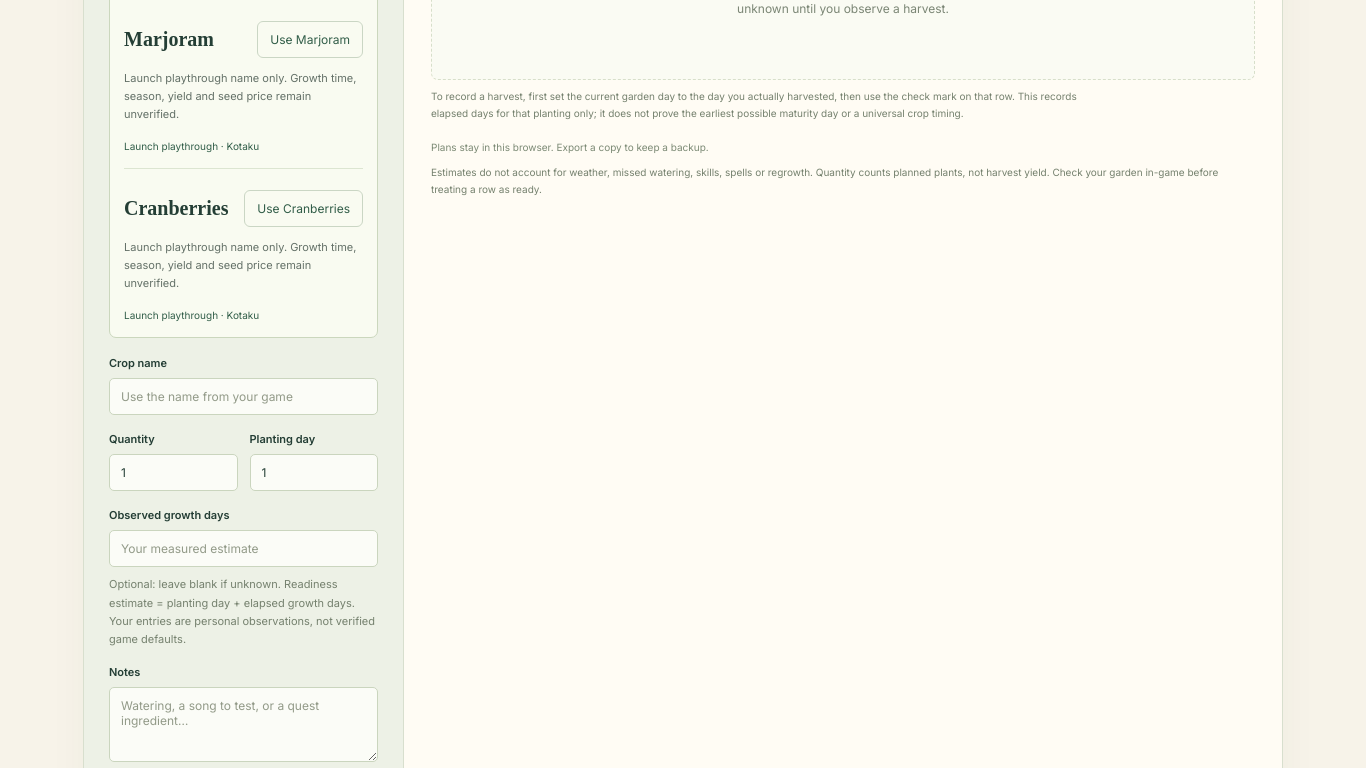
Test: Glimmerwick garden tool › updates the planning day and shows when an estimate is ready
(page scrolled)
Type "My herb" into the field labelled "Crop name" at (244, 397), box 109,378 -> 378,415
Replace the text in the number field labelled "Quantity" with "6" at (173, 473), box 109,454 -> 238,491
Replace the text in the number field labelled "Planting day" with "3" at (314, 473), box 250,454 -> 378,491
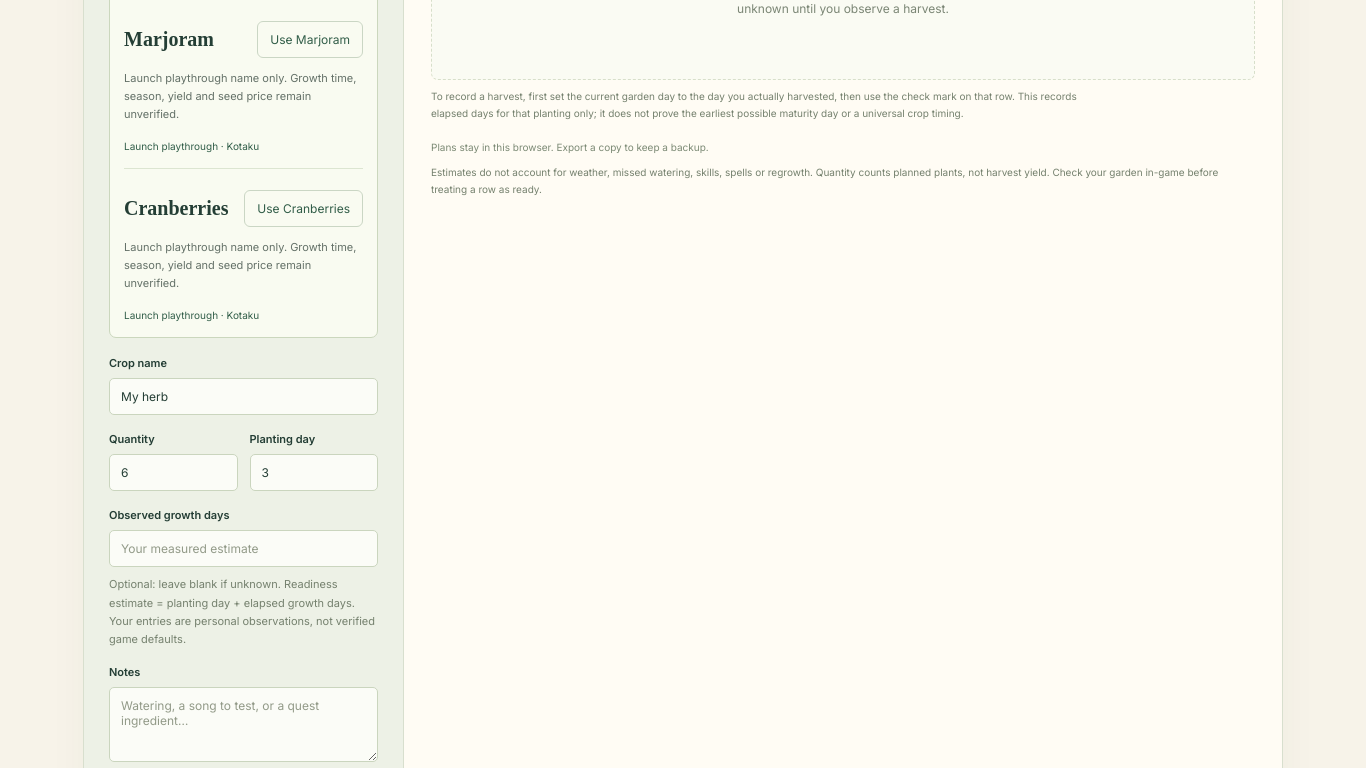
Type "4" into the number field labelled "Observed growth days" at (244, 549), box 109,530 -> 378,567
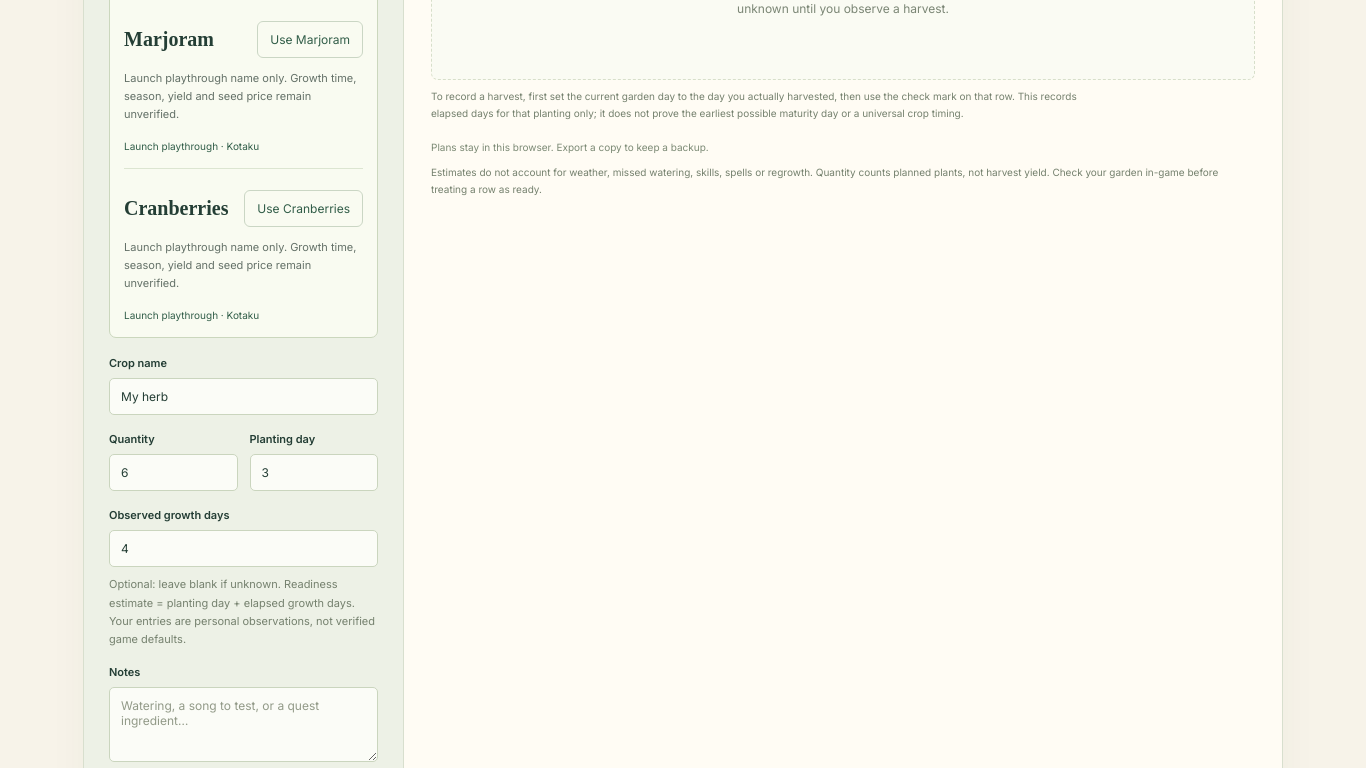
Type "Try a watering song" into the text box labelled "Notes" at (244, 724), box 109,687 -> 378,762
(page scrolled)
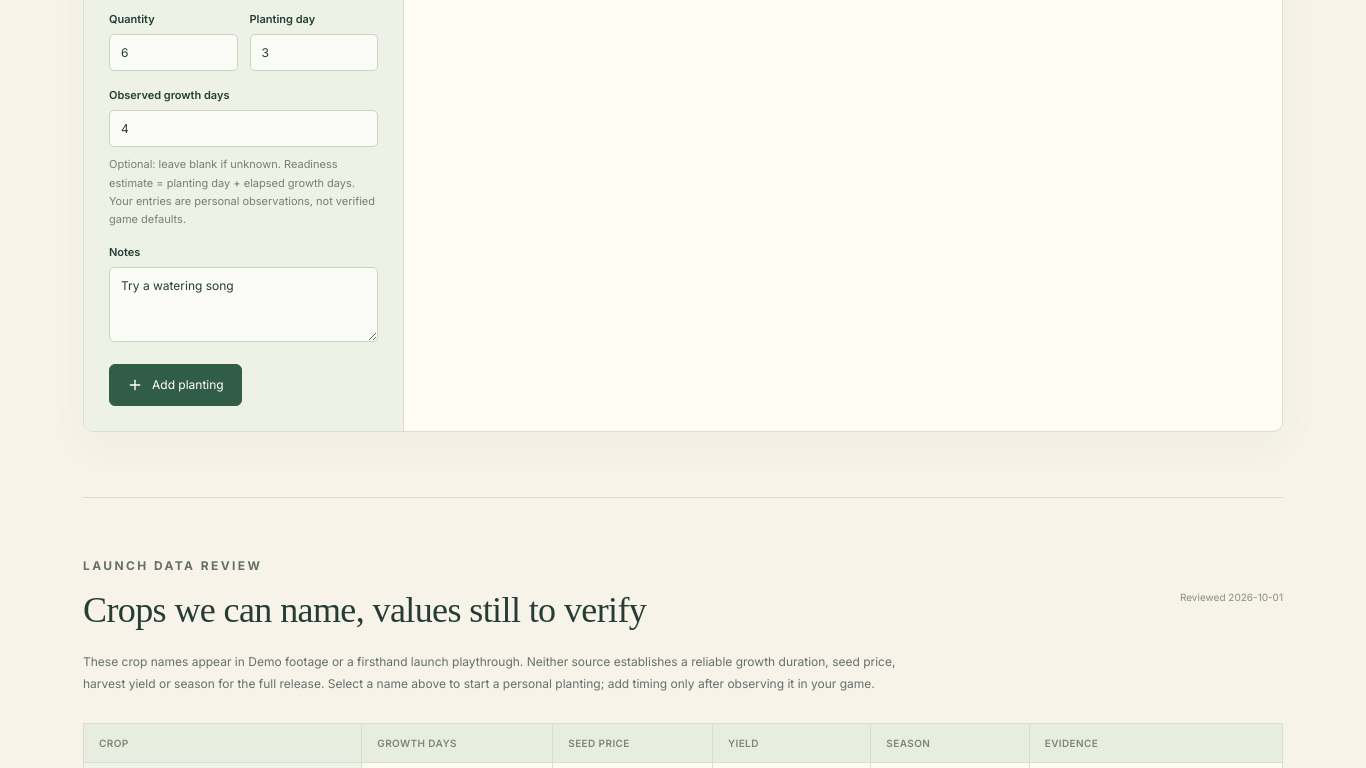
Click the button "Add planting" at (175, 385), box 109,364 -> 242,406
(page scrolled)
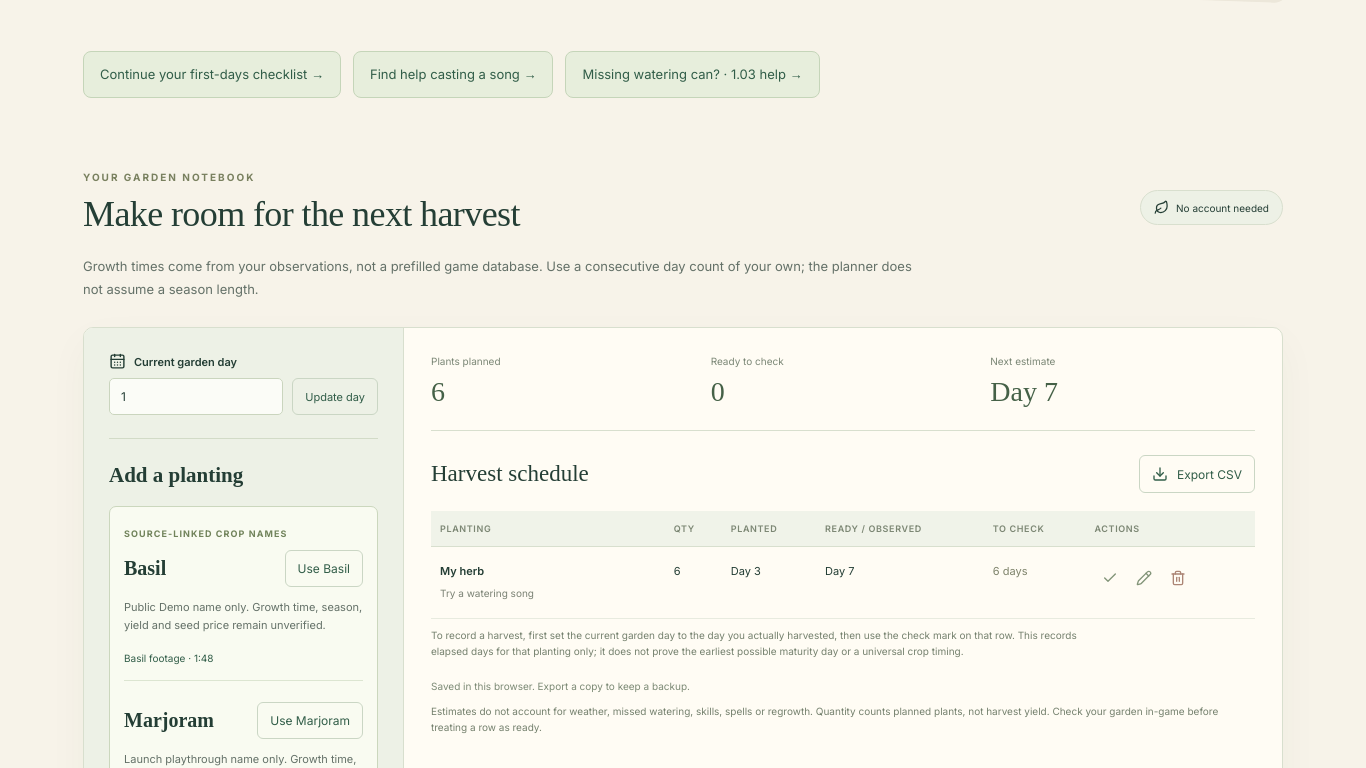
Replace the text in the number field labelled "Current garden day" with "8" at (196, 397), box 109,378 -> 283,415
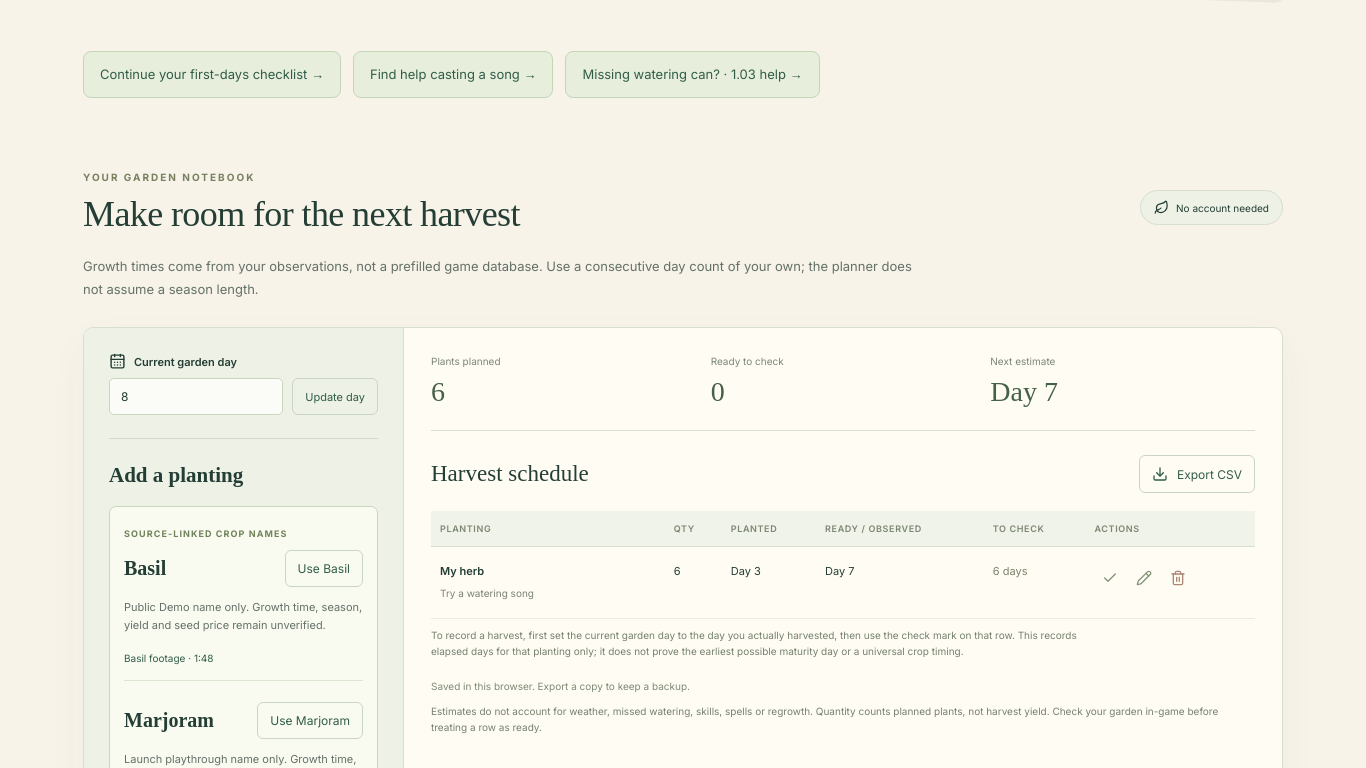
Click the button "Update day" at (335, 397), box 292,378 -> 378,415
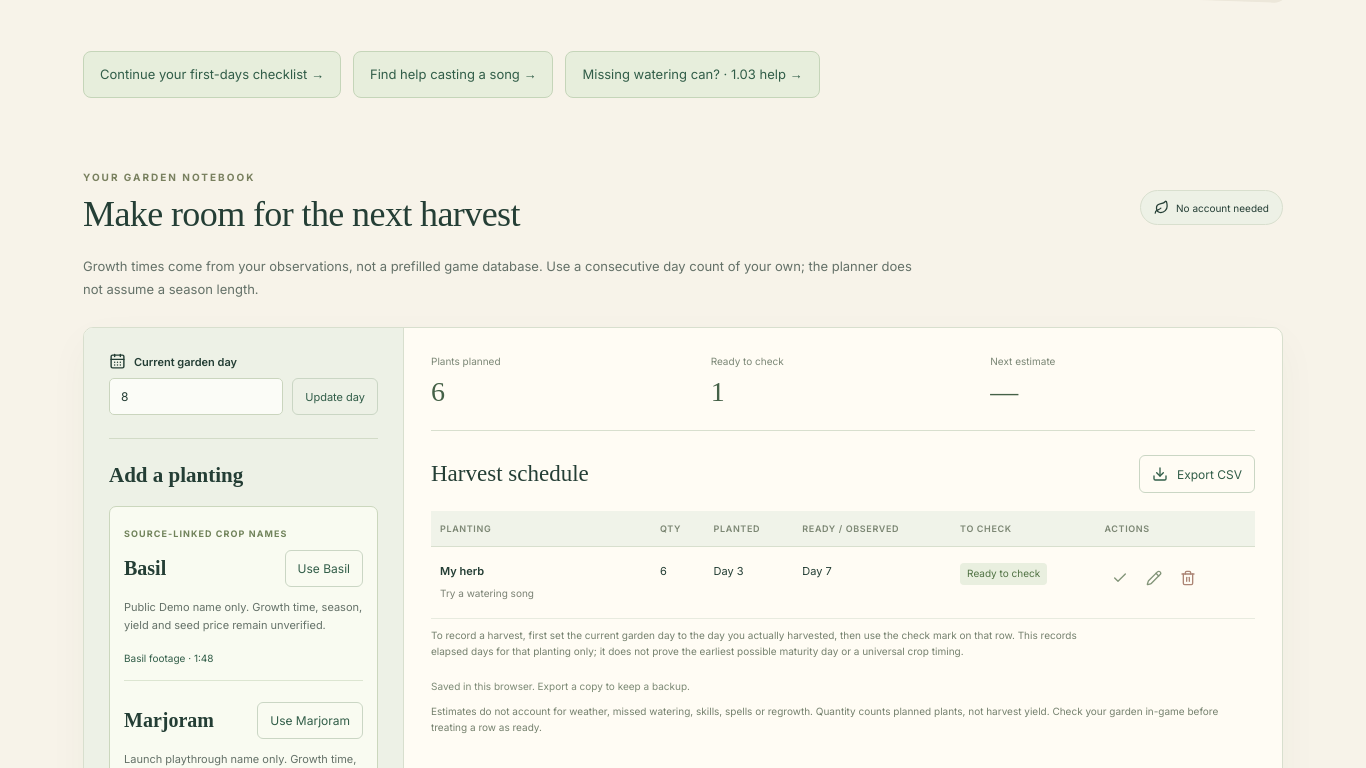
Check: the table named "Your harvest schedule" shows "Ready to check", box 967,567 -> 1040,579
